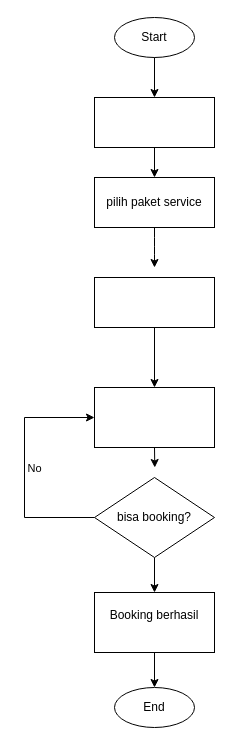
The diagram is 232 pixels wide and 745 high, and some of its shapes have lost their labels. Each missing label, with the centre of its shape:
"Booking" belongs at (x=154, y=302).
"Log In" belongs at (x=154, y=122).
"Mengisi form booking" belongs at (x=154, y=417).
